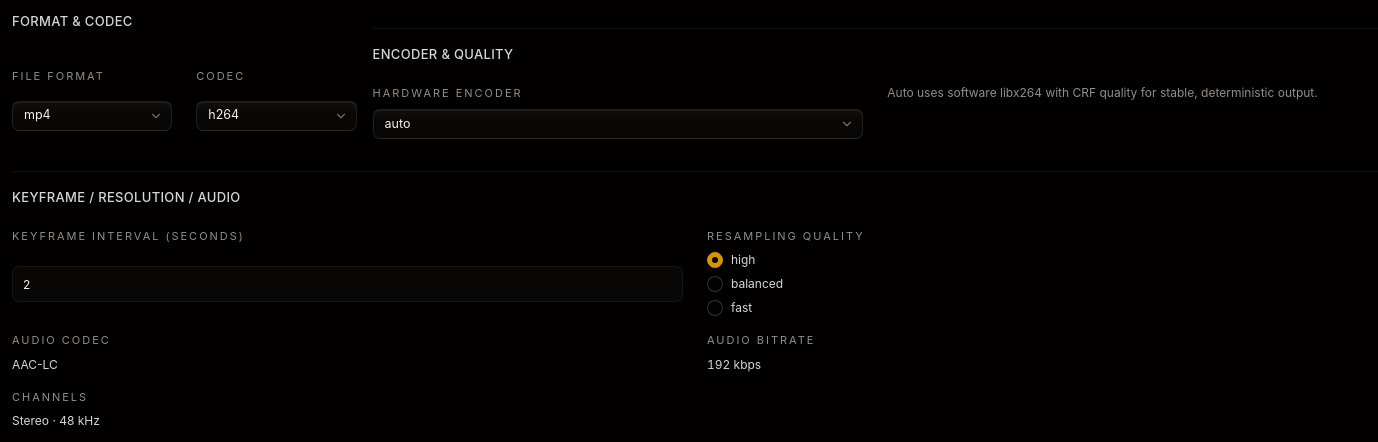
Scenario: AdvancedOutputOptions › does not duplicate the software option when probe exposes libx264
The image size is (1378, 442).
Click the dropdown named "Hardware encoder". click: {"x": 397, "y": 123}
box: [372,109,863,139]
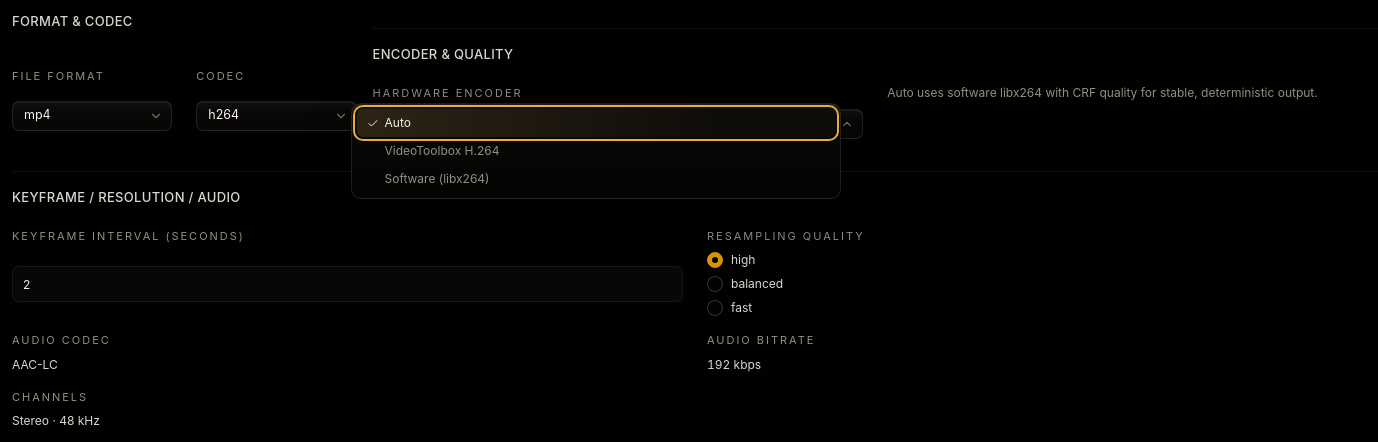
Expected: the text "Software (libx264)" is shown once, [384,171,490,187]
